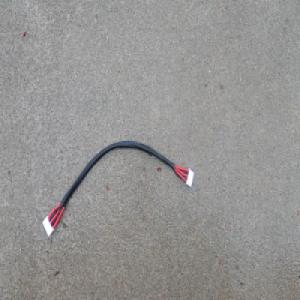Wire: (41, 138, 196, 238)
